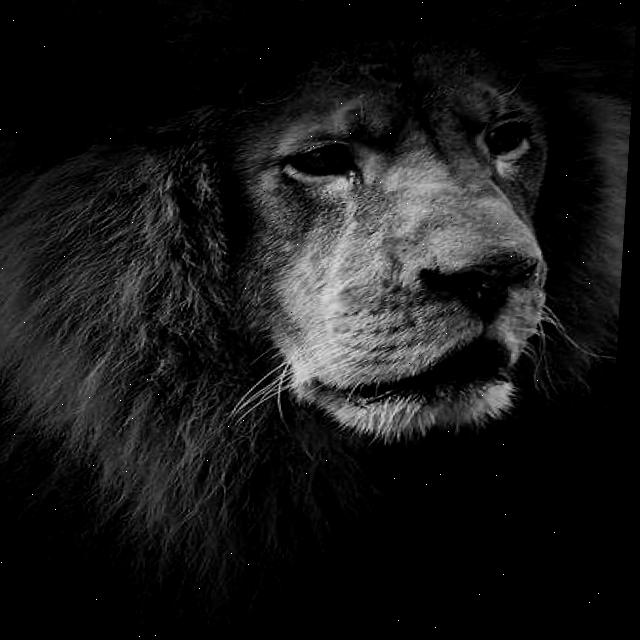Lion: (47, 26, 636, 635)
